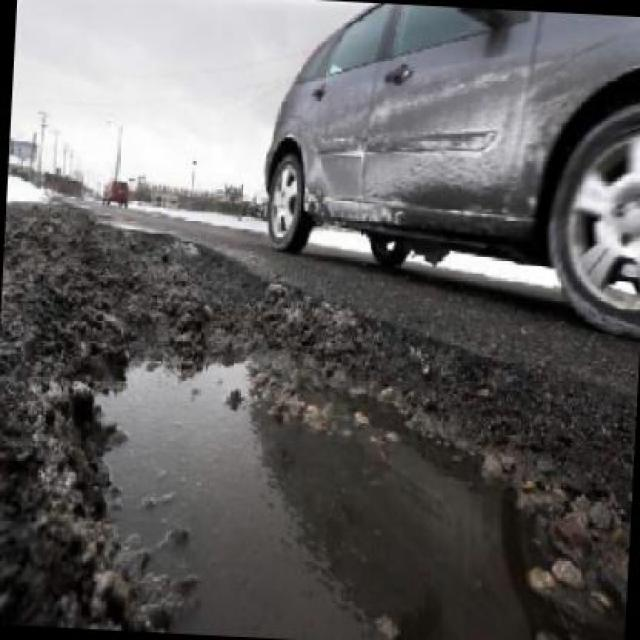pothole1: (0, 207, 638, 638)
